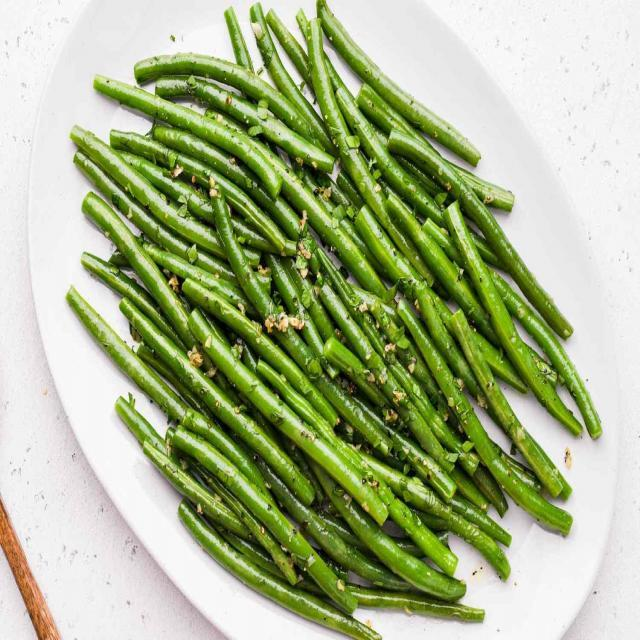Beans: (46, 0, 610, 639)
